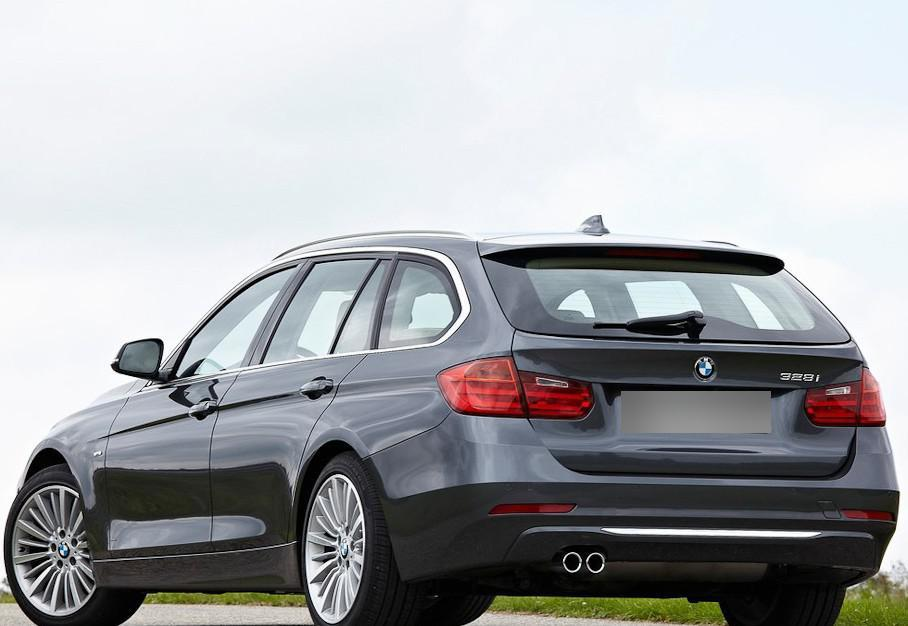Wagon: (3, 215, 898, 626)
